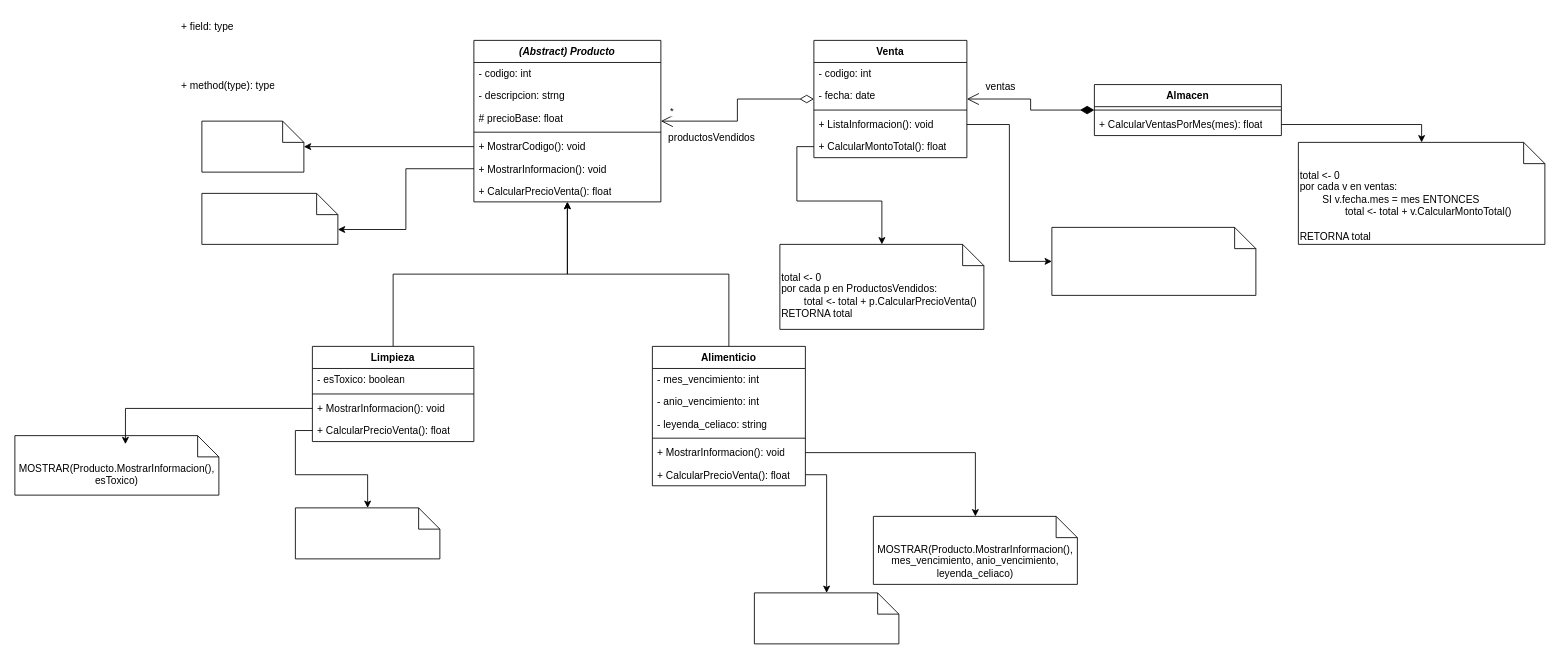
Some shapes in this 1560 by 659 pixel diagram are drawn without their labels. Here are the shapes that lost their labels. From the top down, the centre of each, then its label:
At point (252, 146): "MOSTRAR (codigo)".
At point (269, 218): "MOSTRAR(codigo, descripcion, precioBase)".
At point (1153, 261): "MOSTRAR(codigo, fecha, productosVendidos.MostrarInformacion())".
At point (367, 533): "RETORNA precioBase * 0.21".
At point (826, 618): "RETORNA precioBase * 0.105".
